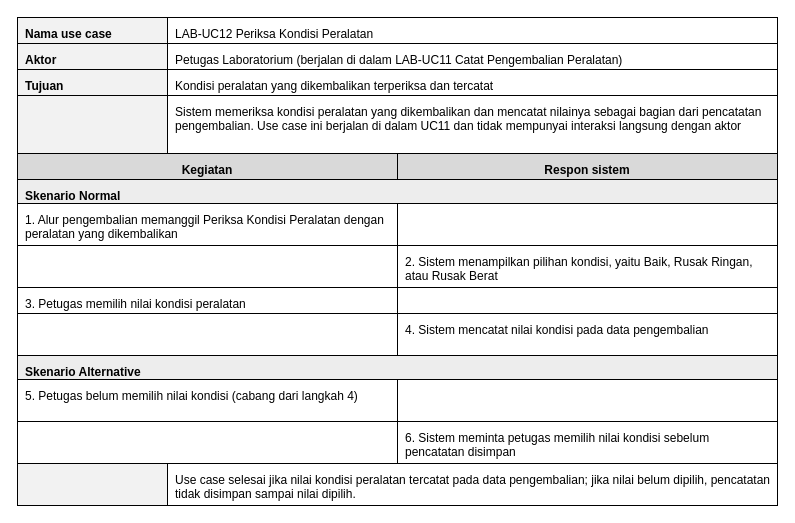
This 795x523 diagram has some shape labels left out. Here are the shapes that lost their labels. From the top down, the centre of each, then its label:
At [92,124]: "Deskripsi".
At [92,484]: "Skenario Akhir".
